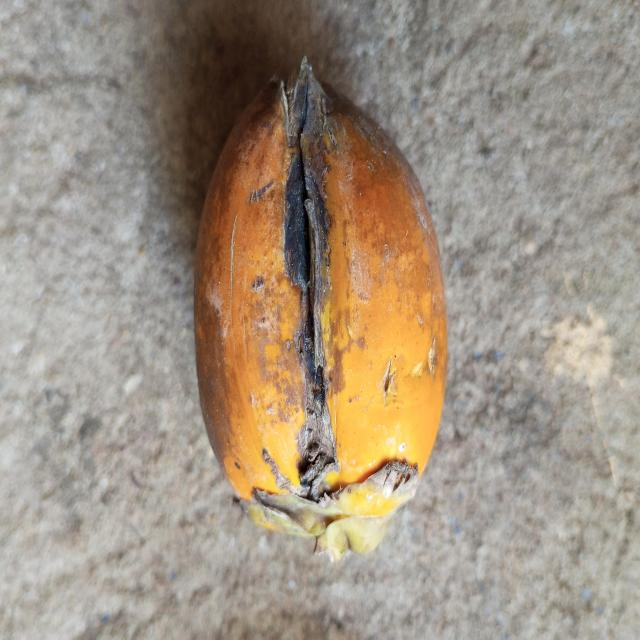damaged: (195, 58, 446, 561)
